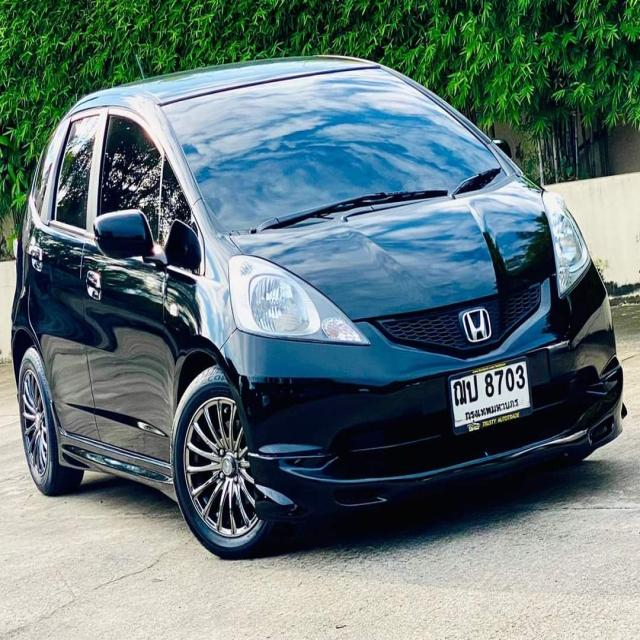license_plate: (444, 353, 536, 438)
